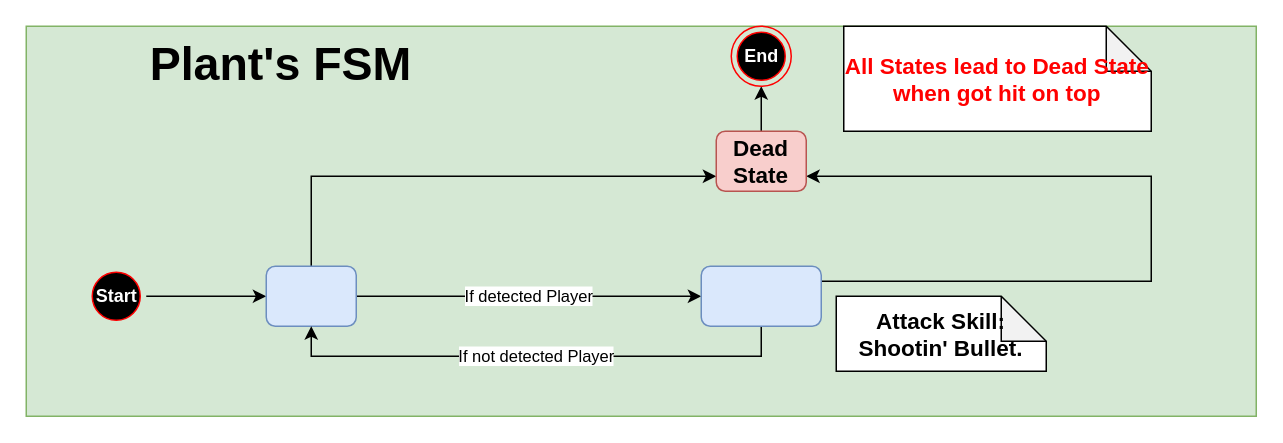
This 1283x443 diagram has some shape labels left out. Here are the shapes that lost their labels. From the top down, the centre of each, then its label:
At (x=310, y=295): "Idle".
At (x=760, y=295): "Attack".
